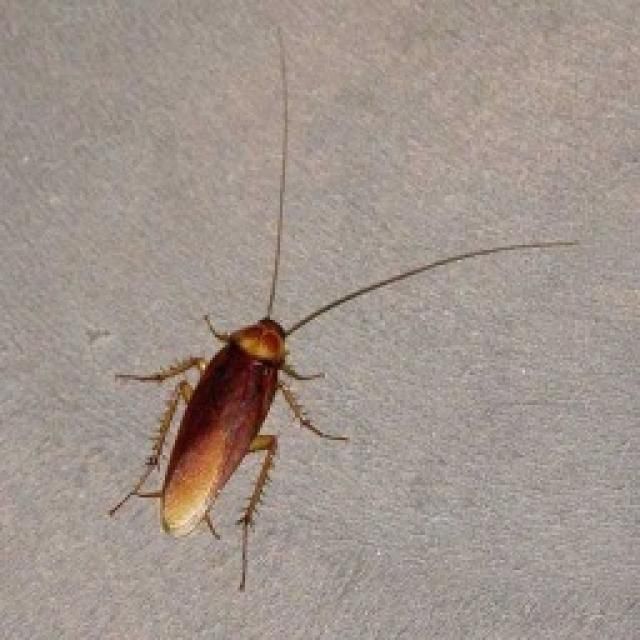cockroach: (106, 262, 357, 554)
